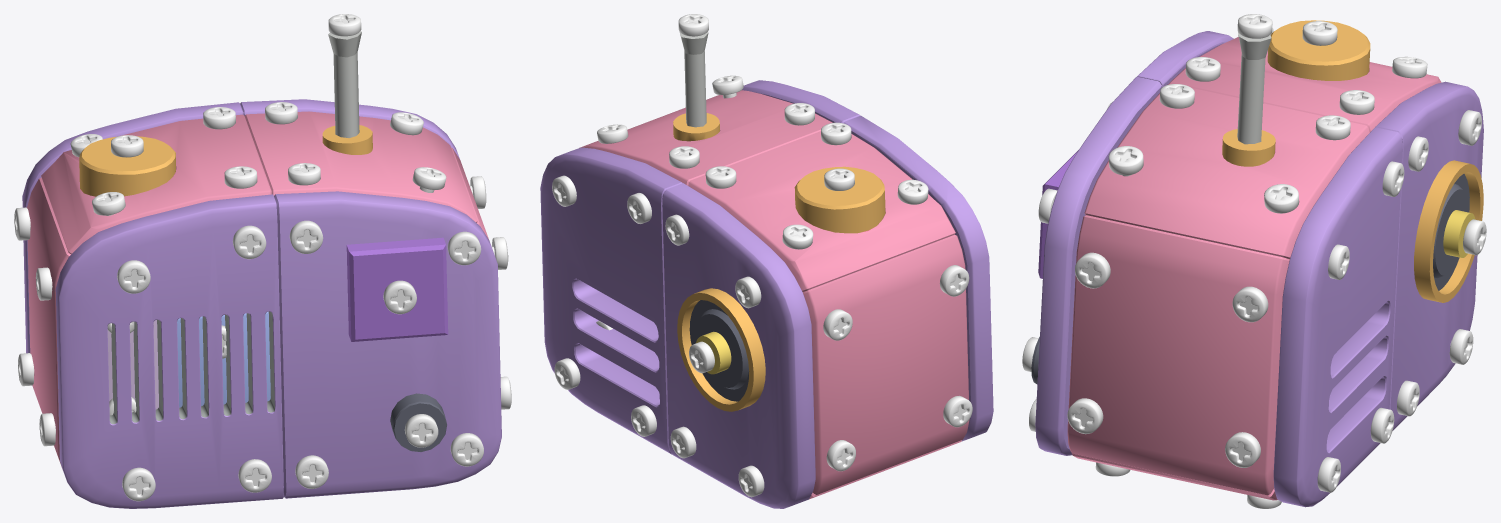
File: Radio.fbx
3 views of the same model, side by side, from view 1: azimuth 30°, elevation 25°; view 2: azimuth 150°, elevation 25°; view 3: azimuth 270°, elevation 25° (orthographic). The views are drawn at different scales.
Parts seen in each view (by area): view 1: SM_Toys_Radio.004, SM_Toys_Radio.015, Screw (×19), SM_Toys_Radio.005, SM_Toys_Radio.011, SM_Toys_Radio.013, SM_Toys_Radio.009, SM_Toys_Radio.010, SM_Toys_Radio.014, SM_Toys_Radio.016, SM_Toys_Radio.018, SM_Toys_Radio.012 (+2 smaller); view 2: SM_Toys_Radio.009, SM_Toys_Radio.003, SM_Toys_Radio.016, SM_Toys_Radio.011, Screw (×23), SM_Toys_Radio.005, SM_Toys_Radio.004, SM_Toys_Radio.001, SM_Toys_Radio.010, SM_Toys_Radio.014, SM_Toys_Radio.015, SM_Toys_Radio.002; view 3: SM_Toys_Radio.006, SM_Toys_Radio.003, SM_Toys_Radio.005, Screw (×22), SM_Toys_Radio.016, SM_Toys_Radio.015, SM_Toys_Radio.011, SM_Toys_Radio.001, SM_Toys_Radio.010, SM_Toys_Radio.014, SM_Toys_Radio.004, SM_Toys_Radio.002 (+2 smaller).
Boxes of the visible parts, x1,y1,x2,y2 form: SM_Toys_Radio.004: (55,194,283,508); SM_Toys_Radio.015: (274,191,501,498); Screw (×19): (92,14,483,501); SM_Toys_Radio.005: (244,111,477,222); SM_Toys_Radio.011: (41,114,271,254); SM_Toys_Radio.013: (346,237,448,341); SM_Toys_Radio.009: (27,178,70,467); SM_Toys_Radio.010: (79,136,176,196); SM_Toys_Radio.014: (322,31,372,154); SM_Toys_Radio.016: (22,102,243,353); SM_Toys_Radio.018: (177,311,270,407); SM_Toys_Radio.012: (390,393,446,451); SM_Toys_Radio.009: (802,235,969,494); SM_Toys_Radio.003: (540,147,682,454); SM_Toys_Radio.016: (662,183,815,508); SM_Toys_Radio.011: (688,131,955,291); Screw (×23): (552,14,972,497); SM_Toys_Radio.005: (579,90,832,185); SM_Toys_Radio.004: (843,115,993,441); SM_Toys_Radio.001: (677,288,765,411); SM_Toys_Radio.010: (794,166,885,233); SM_Toys_Radio.014: (673,32,719,141); SM_Toys_Radio.015: (742,80,859,123); SM_Toys_Radio.002: (696,331,731,374); SM_Toys_Radio.006: (1067,215,1289,495); SM_Toys_Radio.003: (1273,127,1402,507); SM_Toys_Radio.005: (1084,83,1369,259); Screw (×22): (1067,14,1486,492); SM_Toys_Radio.016: (1375,81,1483,430); SM_Toys_Radio.015: (1035,76,1161,455); SM_Toys_Radio.011: (1169,37,1441,132); SM_Toys_Radio.001: (1414,160,1483,302); SM_Toys_Radio.010: (1267,20,1370,80); SM_Toys_Radio.014: (1222,32,1275,166); SM_Toys_Radio.004: (1137,31,1233,87); SM_Toys_Radio.002: (1443,210,1475,257).
Size of the model in its own units: 9.69 by 8.95 by 8.3.
2 materials, 1 textured.
